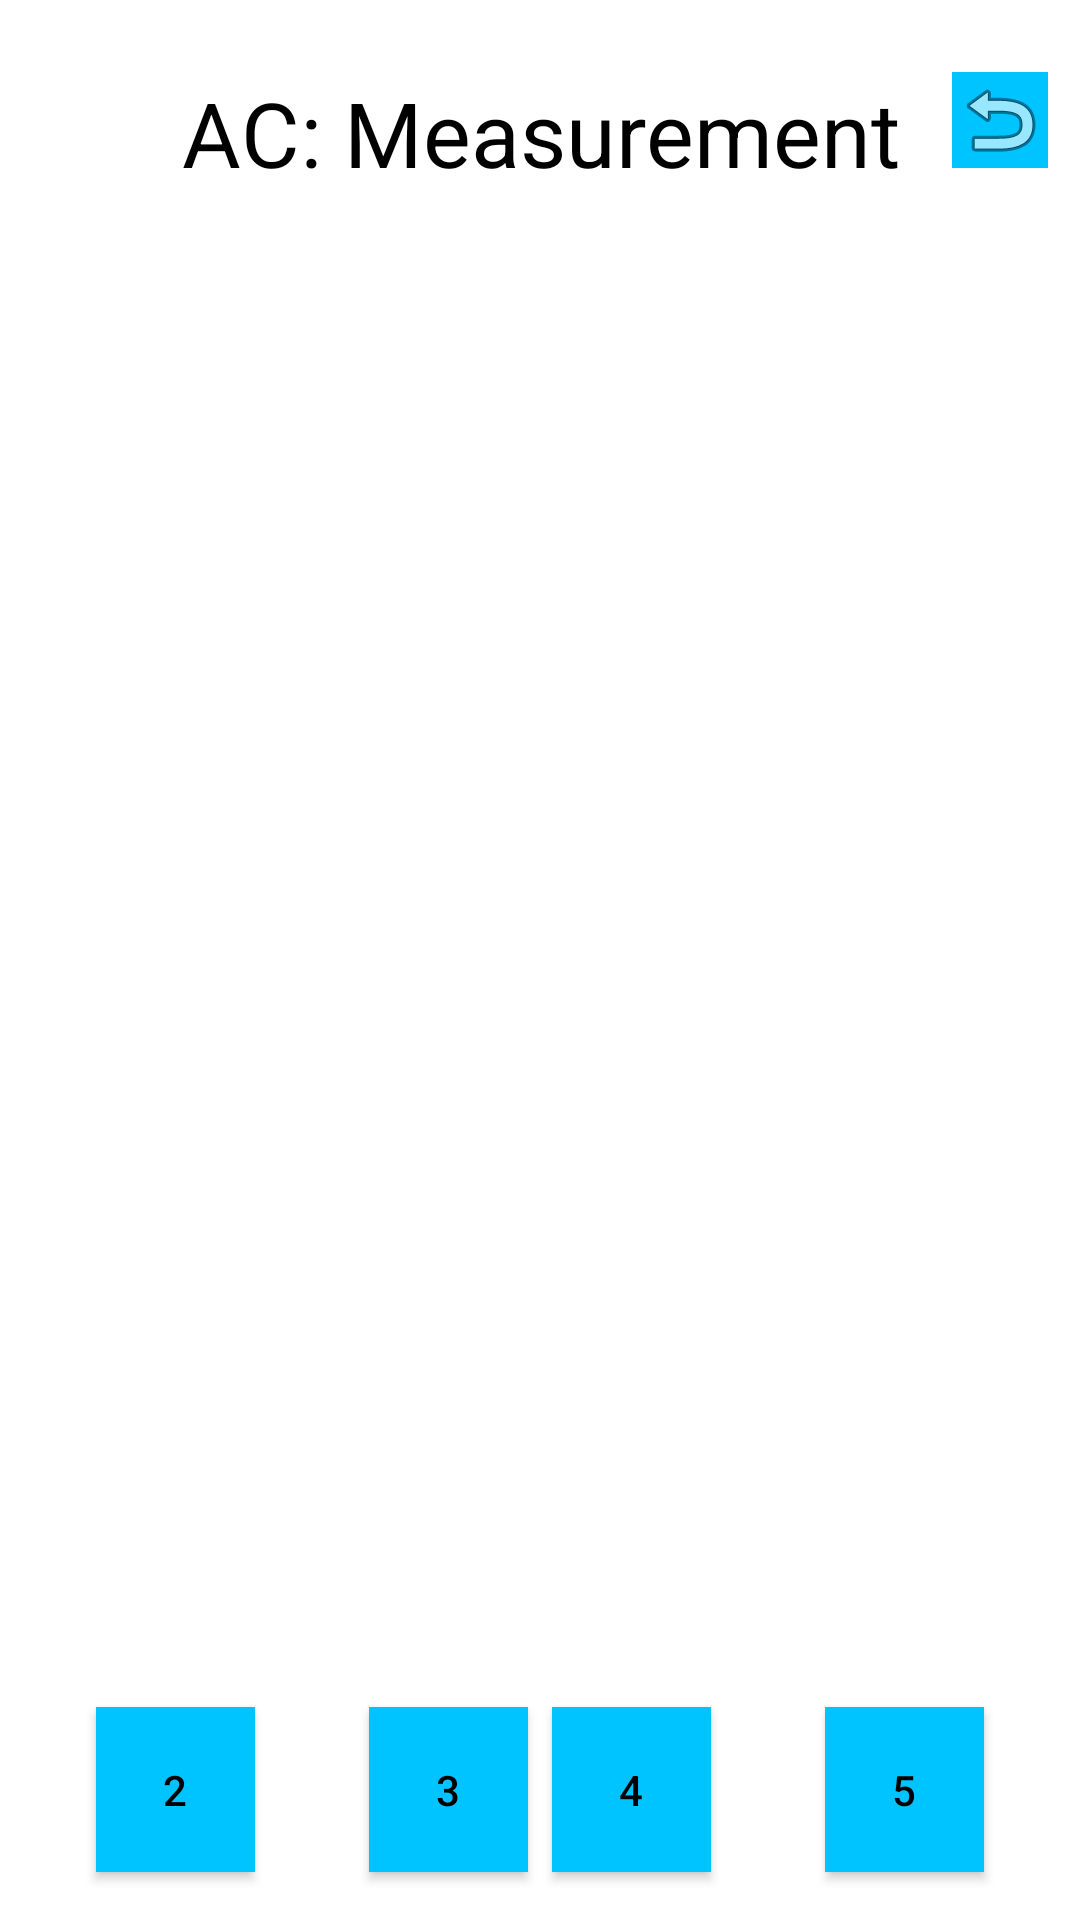

Where icons sit on this 1080x1920 app screen, as (x1, y1, x2, y2):
revert: (952, 72, 1048, 168)
